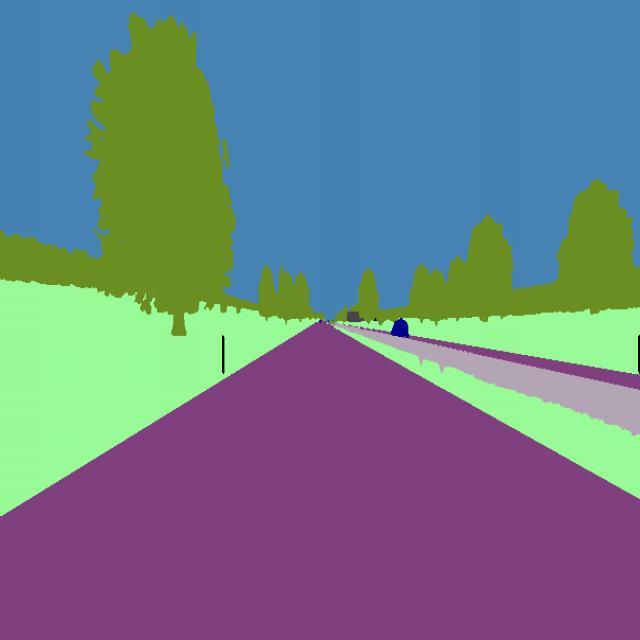safe: (389, 315, 411, 340)
